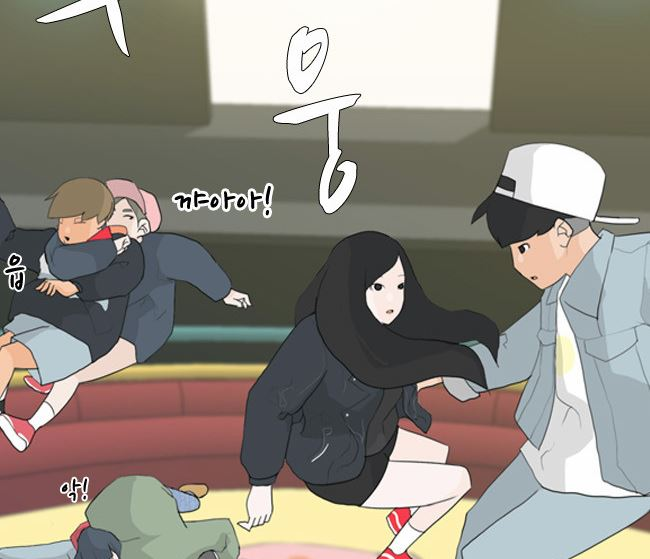hat: (494, 142, 641, 227), (104, 178, 162, 229)
